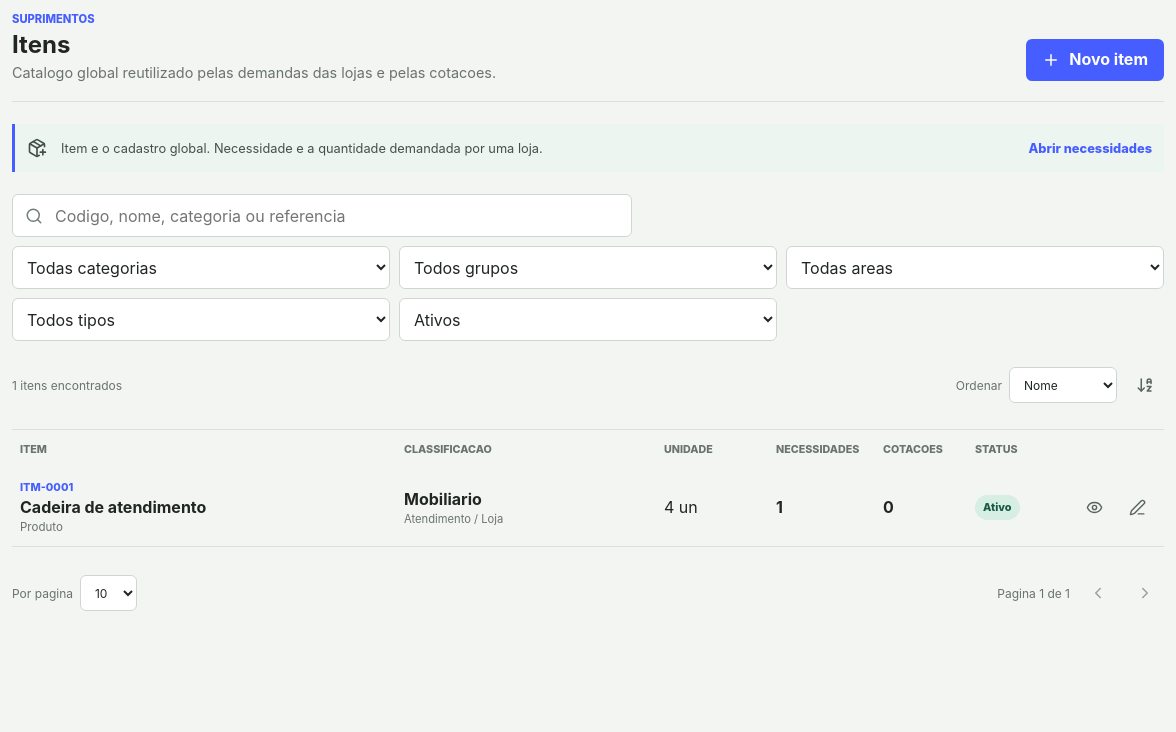
Scenario: SupplyItemsPage › lista e filtra o catalogo global com uso em necessidades
The width and height of the screenshot is (1176, 732).
Check: the text "Cadeira de atendimento" is shown, box [20, 497, 206, 517]
Check: the text "Atendimento / Loja" is shown, box [404, 512, 503, 526]
Type "inexistente" into the field named "Buscar itens" at point(337, 216), box [55, 196, 619, 236]
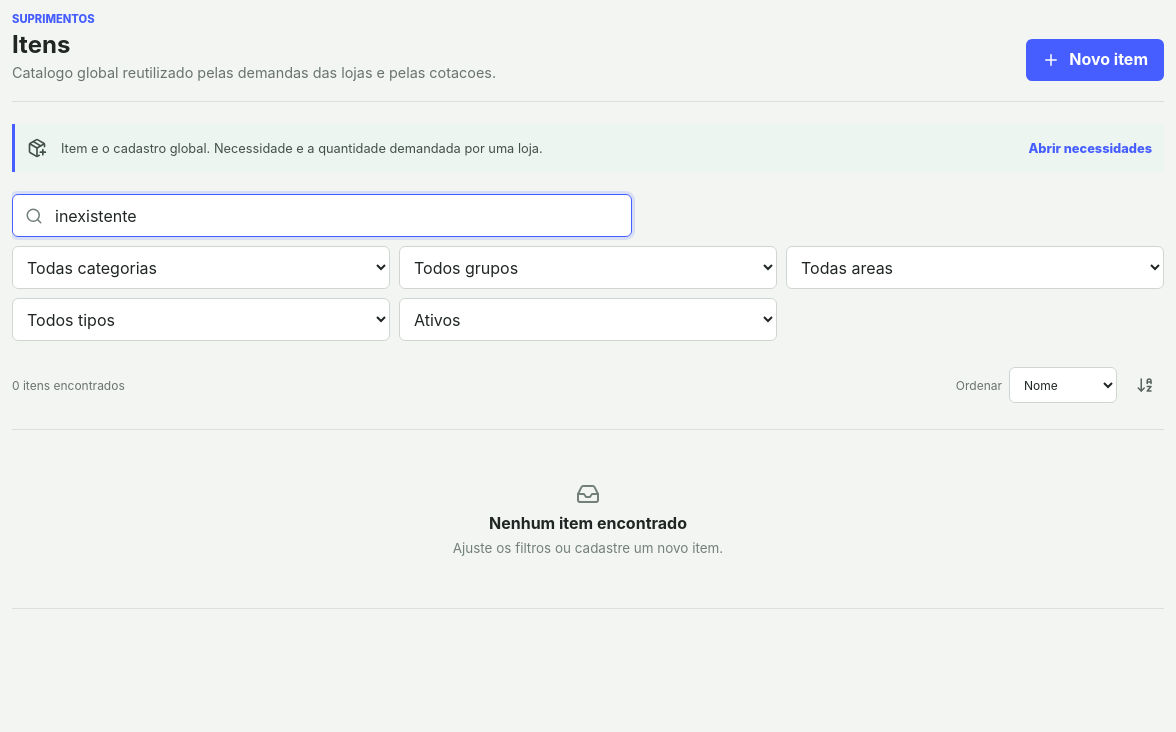
Check: the text "Nenhum item encontrado" is shown, box [489, 513, 687, 533]
